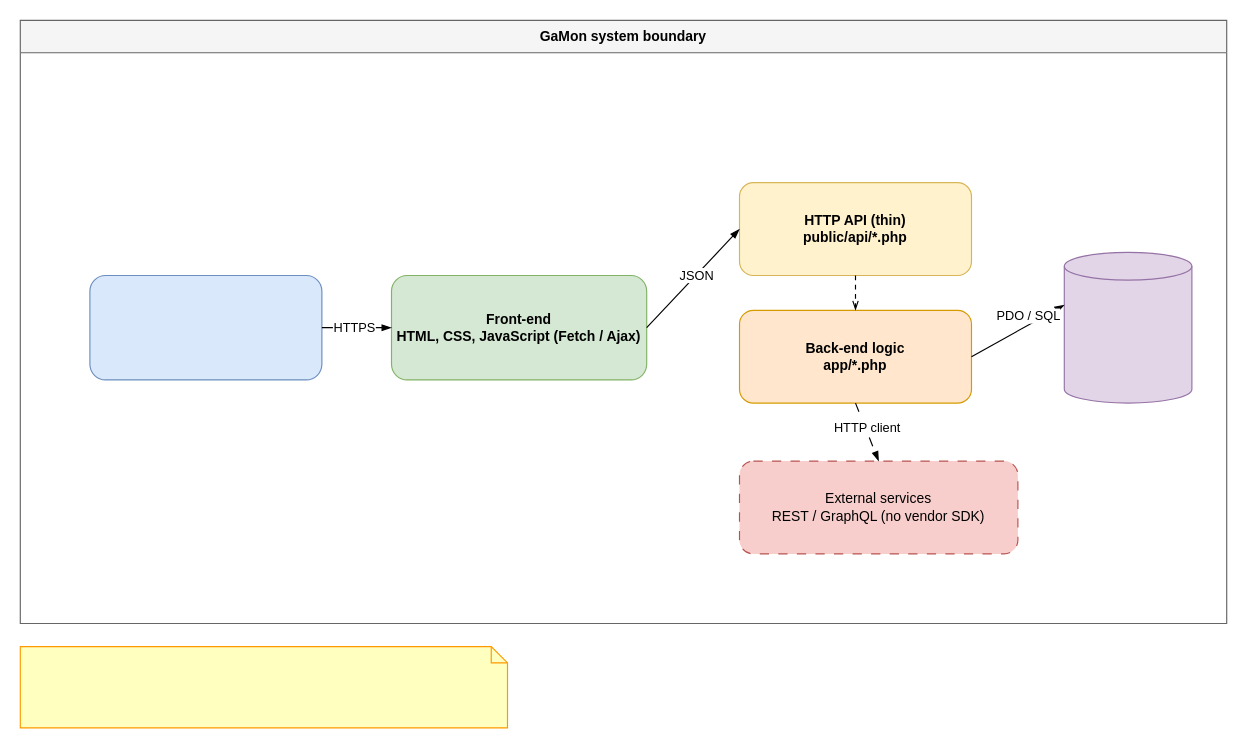
Some shapes in this 1247 by 748 pixel diagram are drawn without their labels. The shapes that lost their labels are listed below. From the top down, each one's centre as x and y in pixels, then its label:
pixel 205 327: User Citizen / authorized staff / decision-maker
pixel 1127 327: SQLite data/*.sqlite
pixel 263 687: C4-style context: refine into containers/components in later diagrams.
